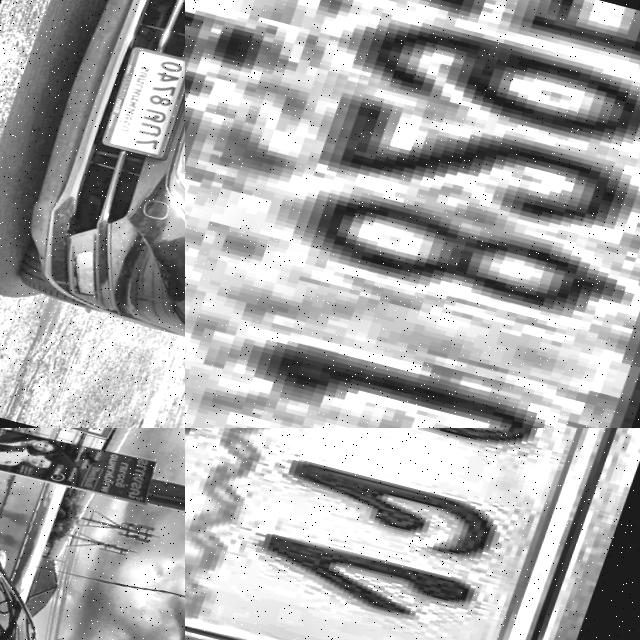license-plate: (185, 0, 640, 428), (185, 428, 640, 640), (100, 43, 185, 159)
